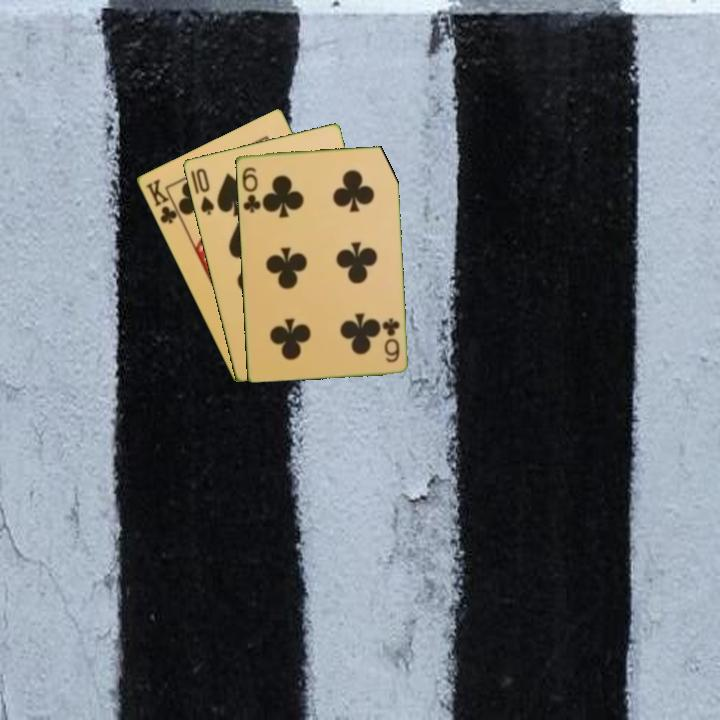10s: (192, 165, 217, 218)
6c: (238, 163, 263, 215), (379, 314, 402, 365)
Kc: (142, 175, 184, 227)
